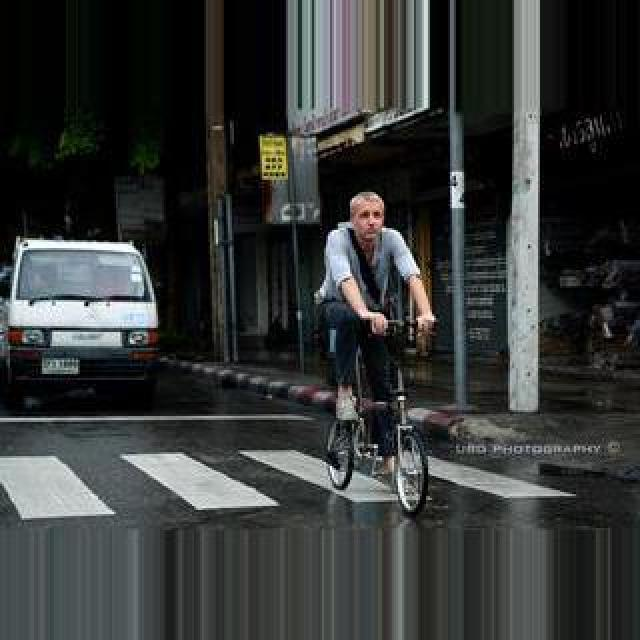MC-Bike: (316, 188, 436, 492)
Person: (322, 322, 432, 516)
Truck-Bike: (2, 238, 164, 412)
